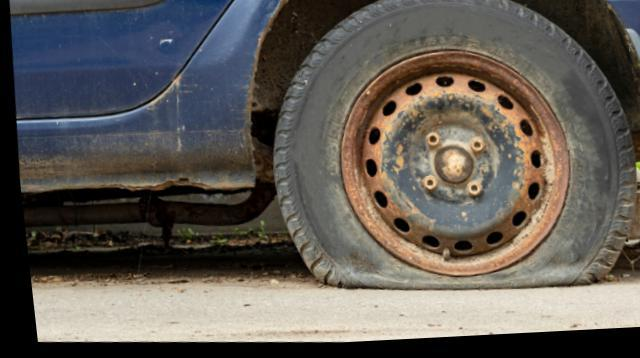tire flat: (267, 0, 632, 295)
